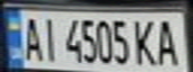0: (96, 17, 115, 65)
4: (60, 15, 81, 63)
5: (112, 16, 133, 66), (78, 16, 96, 64)
A: (151, 16, 184, 68), (18, 14, 45, 62)
I: (39, 14, 60, 63)
K: (130, 16, 160, 68)
